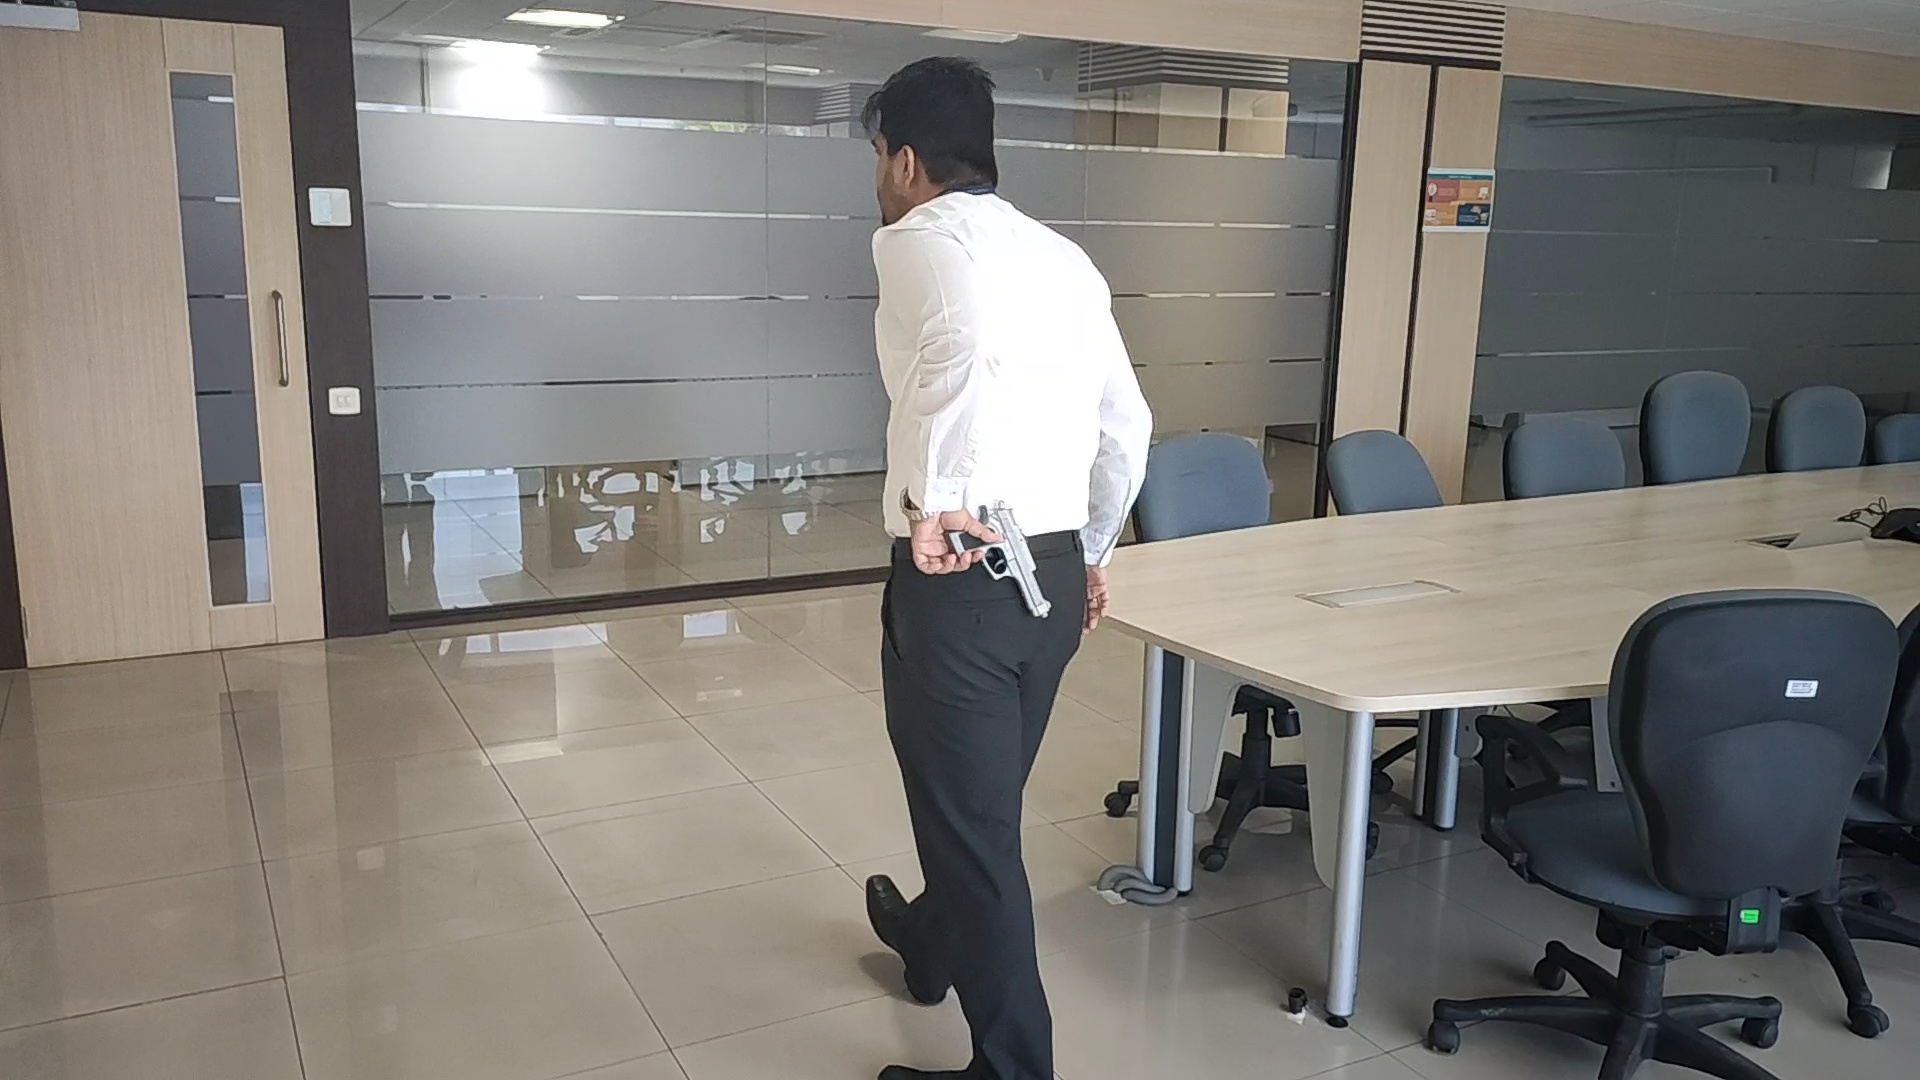gun: (948, 501, 1054, 618)
